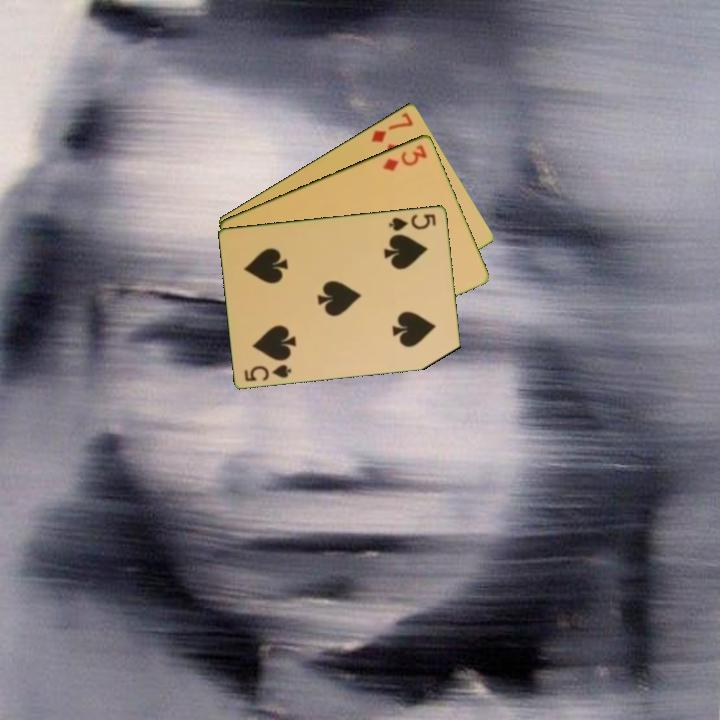3d: (379, 141, 430, 174)
5s: (385, 210, 439, 234), (241, 360, 295, 384)
7d: (367, 109, 416, 145)
